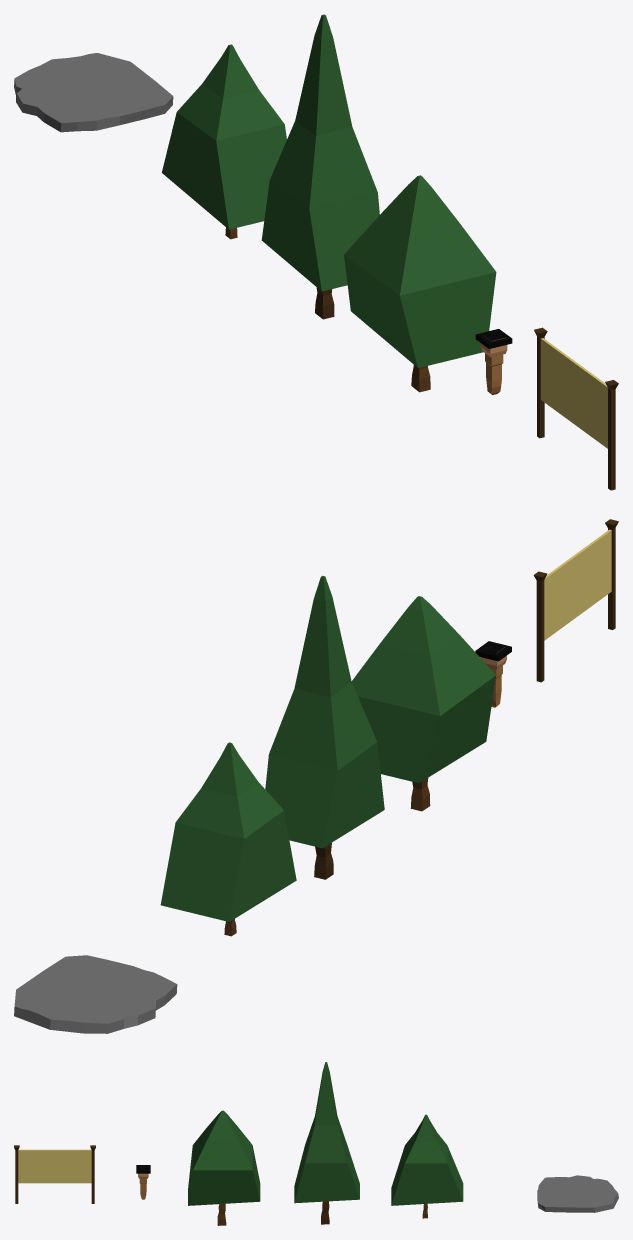
The model's file is SceneryKit1.fbx.
The picture shows the model from 3 angles, top to bottom: view 1: azimuth 30°, elevation 25°; view 2: azimuth 150°, elevation 25°; view 3: azimuth 270°, elevation 25°; orthographic projection. The views are drawn at different scales.
Parts seen in each view (by area): view 1: Tree1, Tree2, Tree3, SteppingStone, Sign, Torch; view 2: Tree2, Tree1, Tree3, SteppingStone, Sign, Torch; view 3: Tree1, Tree2, Tree3, Sign, SteppingStone, Torch.
Part boxes in pixels (x1=…): Tree1: x1=344, y1=175, x2=496, y2=392; Tree2: x1=261, y1=14, x2=379, y2=319; Tree3: x1=162, y1=44, x2=286, y2=239; SteppingStone: x1=14, y1=53, x2=173, y2=132; Sign: x1=534, y1=327, x2=618, y2=490; Torch: x1=475, y1=329, x2=512, y2=394; Tree2: x1=265, y1=575, x2=384, y2=879; Tree1: x1=351, y1=596, x2=495, y2=811; Tree3: x1=160, y1=742, x2=296, y2=936; SteppingStone: x1=14, y1=955, x2=177, y2=1033; Sign: x1=533, y1=519, x2=618, y2=682; Torch: x1=475, y1=641, x2=511, y2=707; Tree1: x1=188, y1=1110, x2=260, y2=1225; Tree2: x1=294, y1=1062, x2=359, y2=1224; Tree3: x1=391, y1=1114, x2=463, y2=1218; Sign: x1=14, y1=1145, x2=95, y2=1203; SteppingStone: x1=537, y1=1175, x2=618, y2=1212; Torch: x1=136, y1=1165, x2=150, y2=1199.
Size of the model in its own units: 166 by 388 by 1312.
